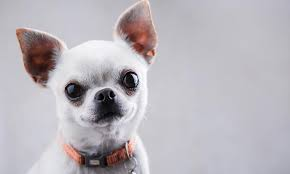chihuahua: (10, 1, 180, 174)
